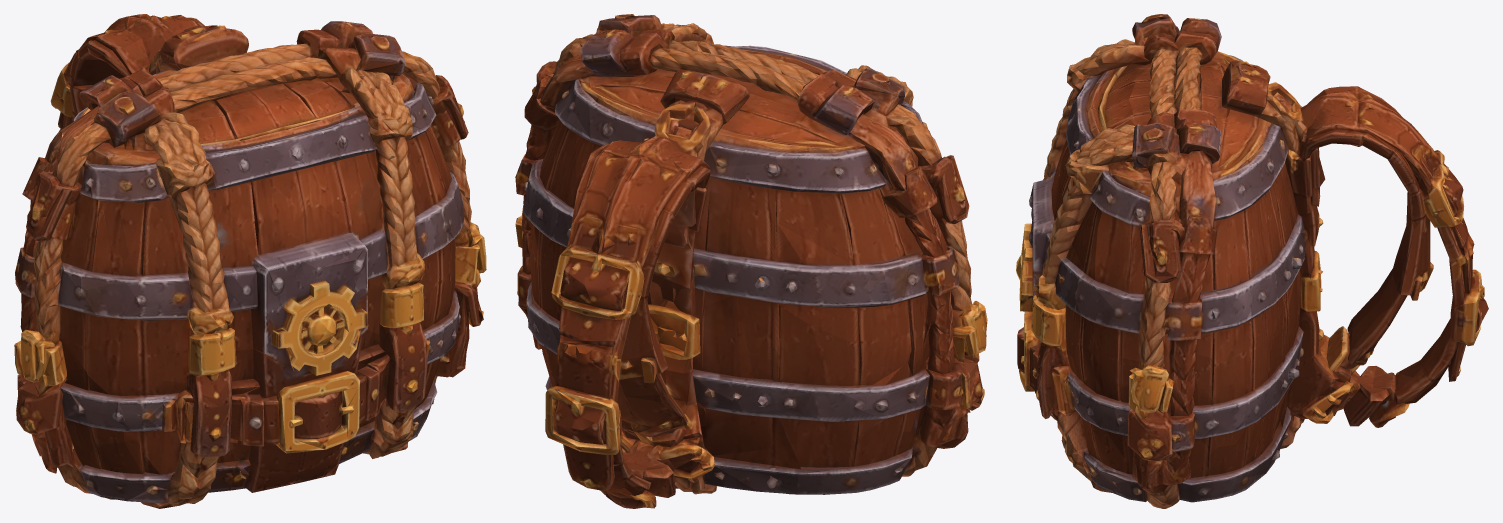
Rendered from barrel-pack.glb.
3 views of the same model, side by side, from view 1: azimuth 30°, elevation 25°; view 2: azimuth 150°, elevation 25°; view 3: azimuth 270°, elevation 25° (orthographic). The views are drawn at different scales.
Parts seen in each view (by area): view 1: Mesh_0; view 2: Mesh_0; view 3: Mesh_0.
Part boxes in pixels (<box>): Mesh_0: <box>14,14,486,508</box>; Mesh_0: <box>515,14,987,508</box>; Mesh_0: <box>1016,14,1488,508</box>.
Size of the model in its own units: 1.9 by 1.61 by 1.81.
1 material, 1 textured.
